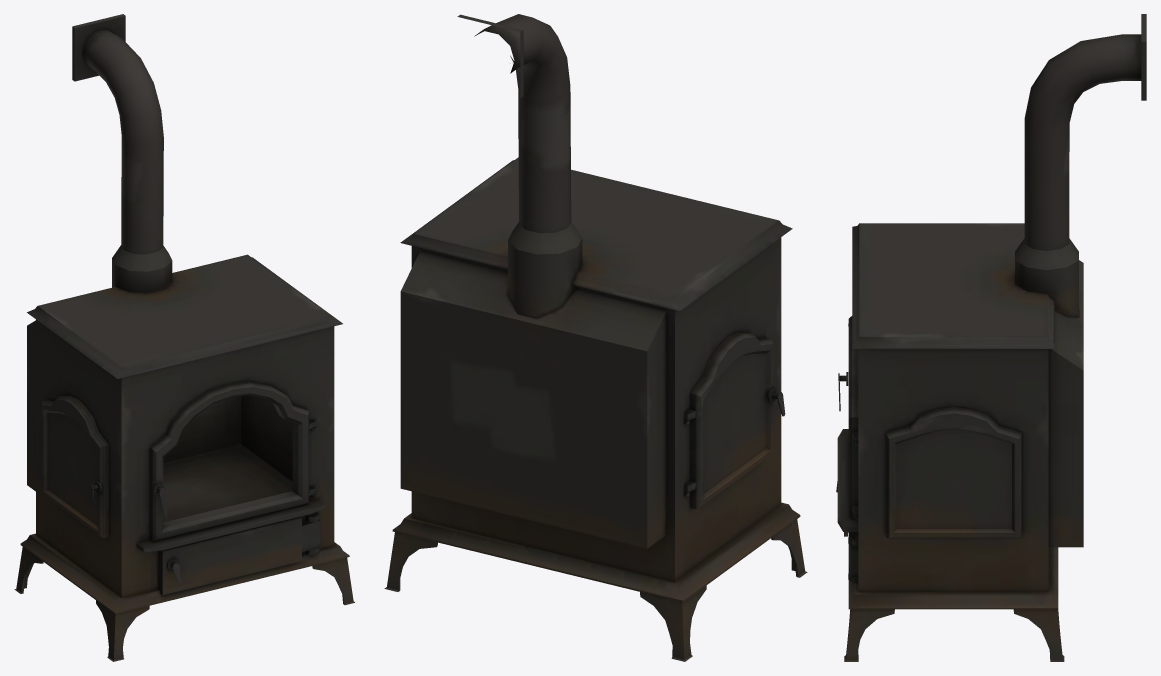
3 renders of one model, left to right at view 1: azimuth 30°, elevation 25°; view 2: azimuth 150°, elevation 25°; view 3: azimuth 270°, elevation 25°, orthographic. The views are drawn at different scales.
Parts seen in each view (by area): view 1: body0_model0_lod0_mesh0; view 2: body0_model0_lod0_mesh0; view 3: body0_model0_lod0_mesh0.
Boxes of the visible parts, left/top/right/bottom form: body0_model0_lod0_mesh0: left=14, top=14, right=354, bottom=661; body0_model0_lod0_mesh0: left=384, top=14, right=807, bottom=661; body0_model0_lod0_mesh0: left=836, top=14, right=1146, bottom=661.
Size of the model in its own units: 57.4 by 115 by 57.02.
Materials: 1 (1 with a texture image).
